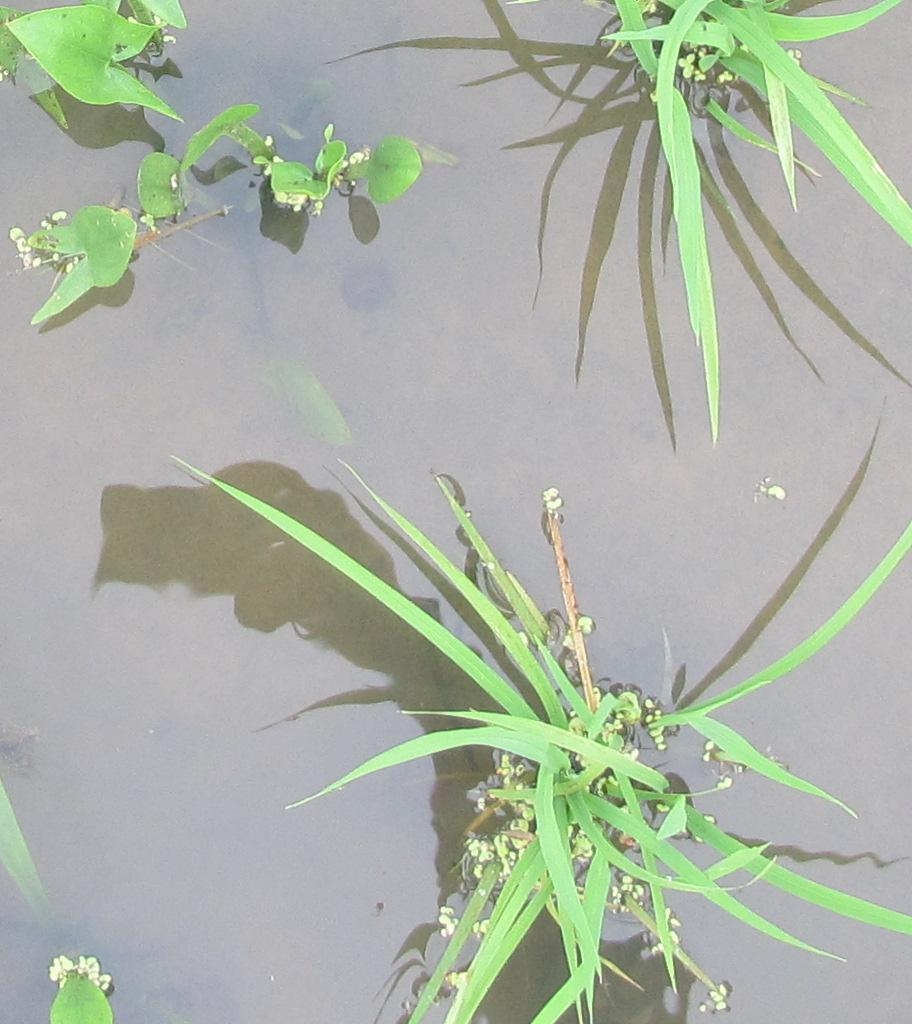Weed: (11, 3, 425, 307)
